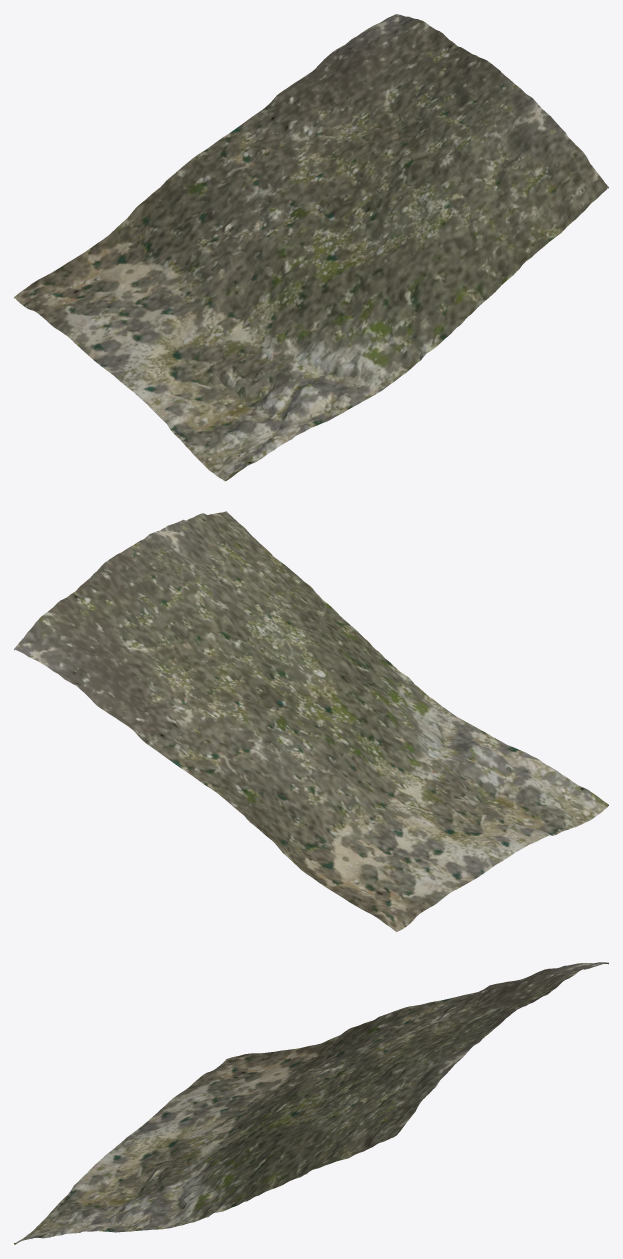
3 views of the same model, one above another, from view 1: azimuth 30°, elevation 25°; view 2: azimuth 150°, elevation 25°; view 3: azimuth 330°, elevation 25° (orthographic).
Bounding box in the file's own units: 250 × 151 × 241.
Materials: 1 (1 with a texture image).
